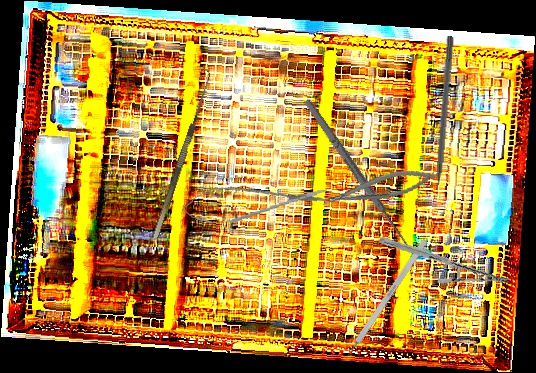Hook Surgical: (300, 91, 430, 266), (142, 67, 216, 240), (337, 238, 429, 369)
Micro Scissor: (180, 175, 330, 230)
Needle Holder: (378, 214, 511, 307), (319, 164, 438, 211)
Pusher: (430, 35, 455, 208)
